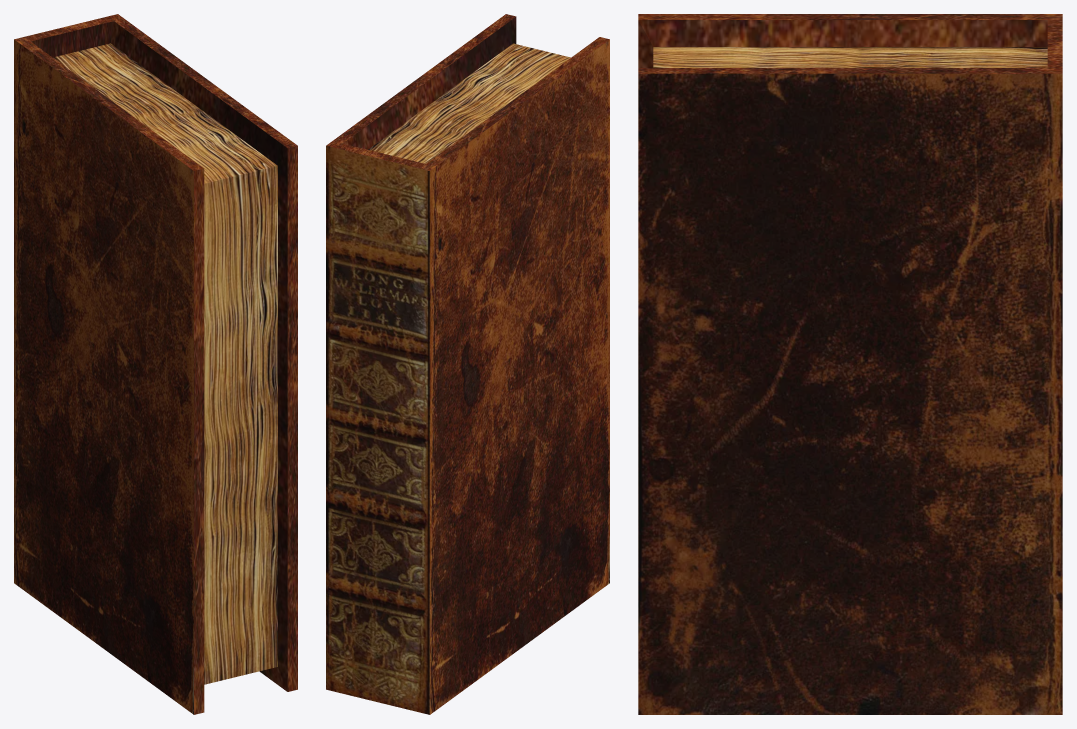
Rendered from bookTwo.glb.
3 renders of one model, left to right at view 1: azimuth 30°, elevation 25°; view 2: azimuth 150°, elevation 25°; view 3: azimuth 270°, elevation 25°, orthographic. The views are drawn at different scales.
Parts seen in each view (by area): view 1: Cube; view 2: Cube; view 3: Cube.
Part boxes in pixels (x1,y1,x2,y2): Cube: [14, 14, 297, 714]; Cube: [326, 14, 609, 714]; Cube: [638, 14, 1062, 714].
Bounding box in the file's own units: 4 × 20 × 12.
1 material, 1 textured.
